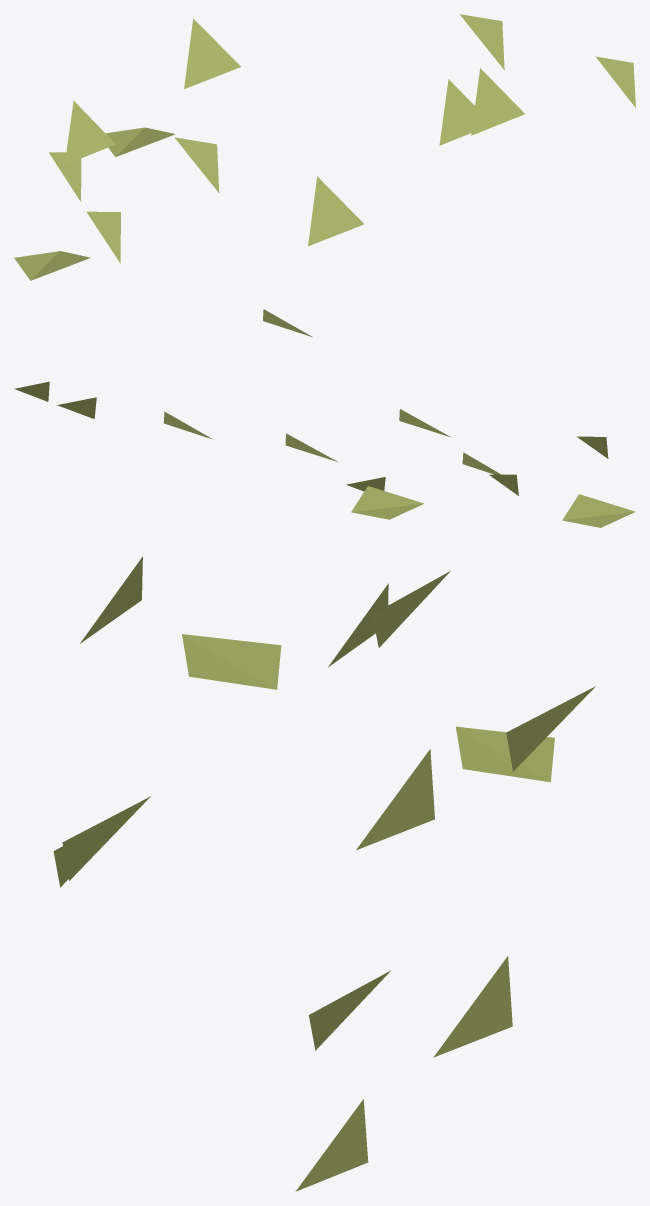
The model's file is xiyuan-vegetation-03-far.glb.
3 views of the same model, one above another, from view 1: azimuth 30°, elevation 25°; view 2: azimuth 150°, elevation 25°; view 3: azimuth 270°, elevation 25° (orthographic). The views are drawn at different scales.
Visible parts, largest first — view 1: scalloped lotus leaves.002; view 2: scalloped lotus leaves.002; view 3: scalloped lotus leaves.002.
Boxes of the visible parts, x1,y1,x2,y2 form: scalloped lotus leaves.002: (14, 14, 635, 280); scalloped lotus leaves.002: (14, 309, 635, 527); scalloped lotus leaves.002: (53, 556, 595, 1191).
Size of the model in its own units: 8.67 by 1.55 by 3.54.
